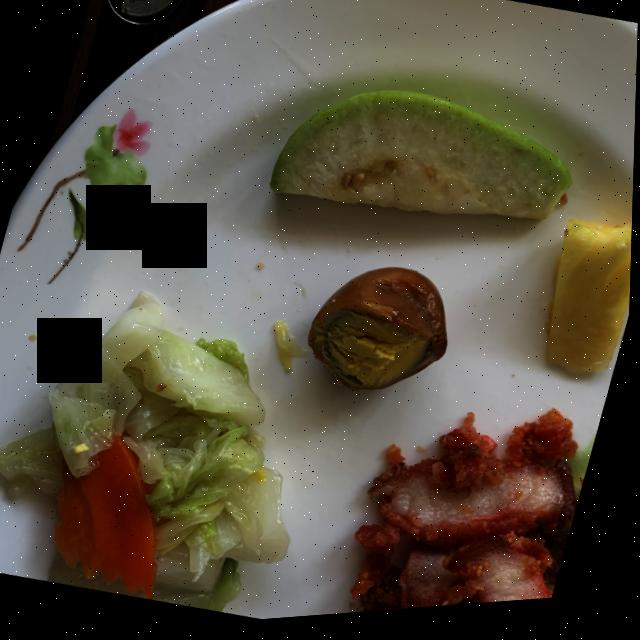cabbage: (0, 294, 293, 616)
coin: (106, 0, 182, 28)
guava -sliced-: (271, 96, 573, 228)
pineapple: (548, 228, 634, 383)
red grilled pork: (355, 418, 581, 618)
soy egg: (310, 273, 449, 396)
